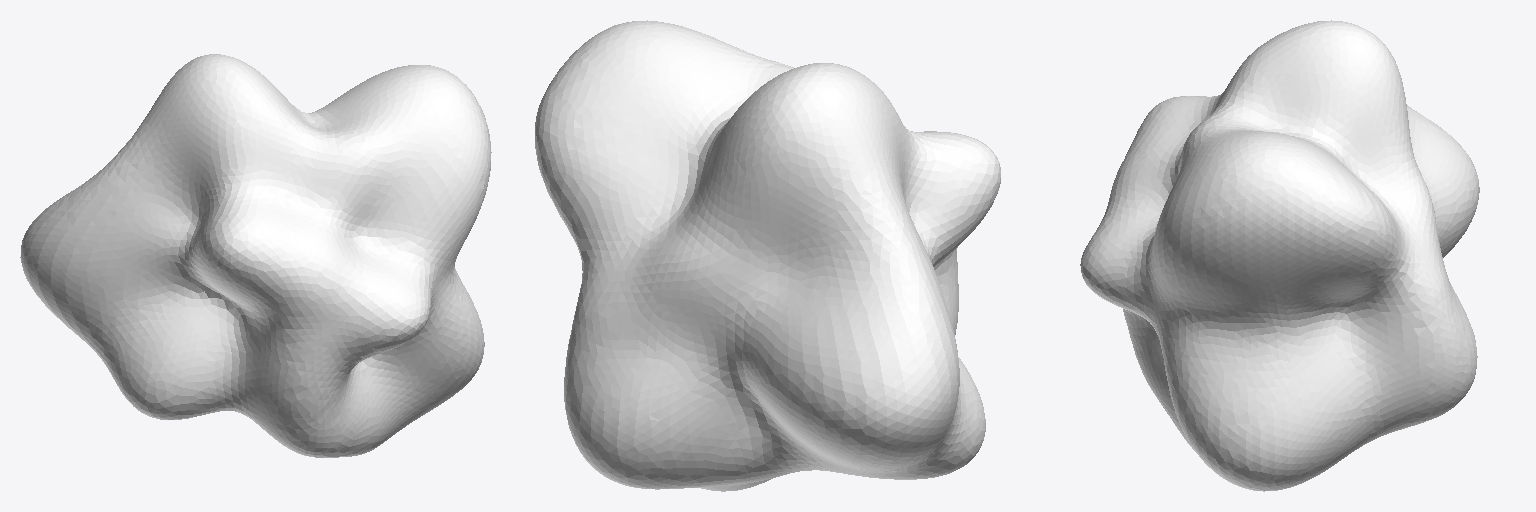
The robot description file, URDF, robot "BigGlaven4":
<robot name="BigGlaven4">
	<link name="_name">
		<visual>
			<origin rpy="0 0 0" xyz="-0.0015819218349065493 -0.0005003894345065026 0.0001824786231376127" />
			<geometry>
				<mesh filename="BigGlaven4.obj" scale="0.001 0.001 0.001" />
			</geometry>
			<material name="texture">
				<color rgba="1.0 1.0 1.0 1.0" />
			</material>
		</visual>
		<collision>
			<geometry>
				<mesh filename="BigGlaven4_vhacd.obj" scale="0.001 0.001 0.001" />
			</geometry>
		<origin rpy="0 0 0" xyz="-0.0015819218349065493 -0.0005003894345065026 0.0001824786231376127" /></collision>
		<inertial>
			<mass value="1.0" />
			<inertia ixx="1.0" ixy="0.0" ixz="0.0" iyy="1.0" iyz="0.0" izz="1.0" />
		</inertial>
	</link>
</robot>

--- Facts derived from the render (not from the file) ---
Views: 3 orthographic renders of the robot side by side, from view 1: azimuth 30°, elevation 25°; view 2: azimuth 150°, elevation 25°; view 3: azimuth 270°, elevation 25°.
Robot: BigGlaven4 — 1 links, 0 joints (none); root link _name; default pose: every joint at zero.
Links seen in each view (by area): view 1: _name; view 2: _name; view 3: _name.
Boxes of the visible links, x1,y1,x2,y2 form: _name: (20,54,491,457); _name: (535,20,1000,491); _name: (1080,20,1479,491).
Size in the robot's own frame: 0.0478 by 0.0421 by 0.0465 metres.
1 mesh visuals loaded from 1 distinct referenced files (1 OBJ).
